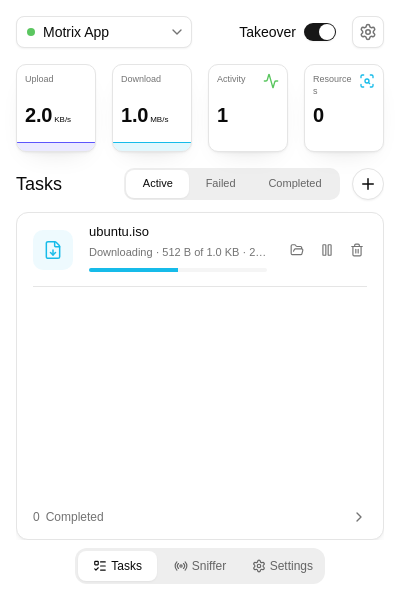
Test: Popup App › starts resource discovery before the Sniffer tab is selected
Expected: the text "ubuntu.iso" is shown, [89, 224, 149, 239]
Step 1. Click the tab "Sniffer" → x=200, y=566, box [160, 551, 240, 581]
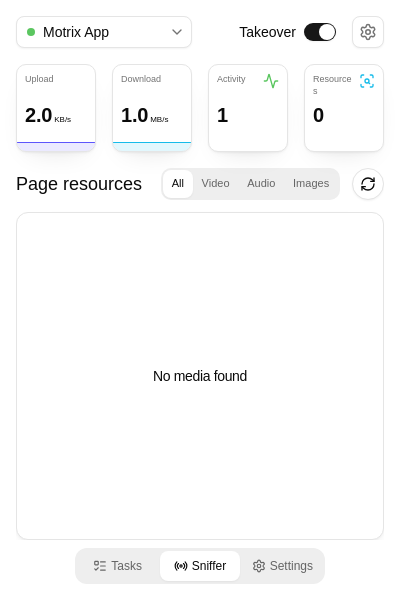
Expected: the heading "Page resources" is shown, [16, 172, 149, 196]
